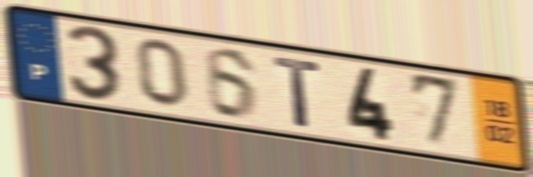0: (133, 37, 194, 111)
3: (63, 24, 125, 104)
4: (345, 65, 398, 143)
6: (201, 46, 263, 122)
7: (408, 69, 464, 155)
T: (270, 53, 325, 131)
